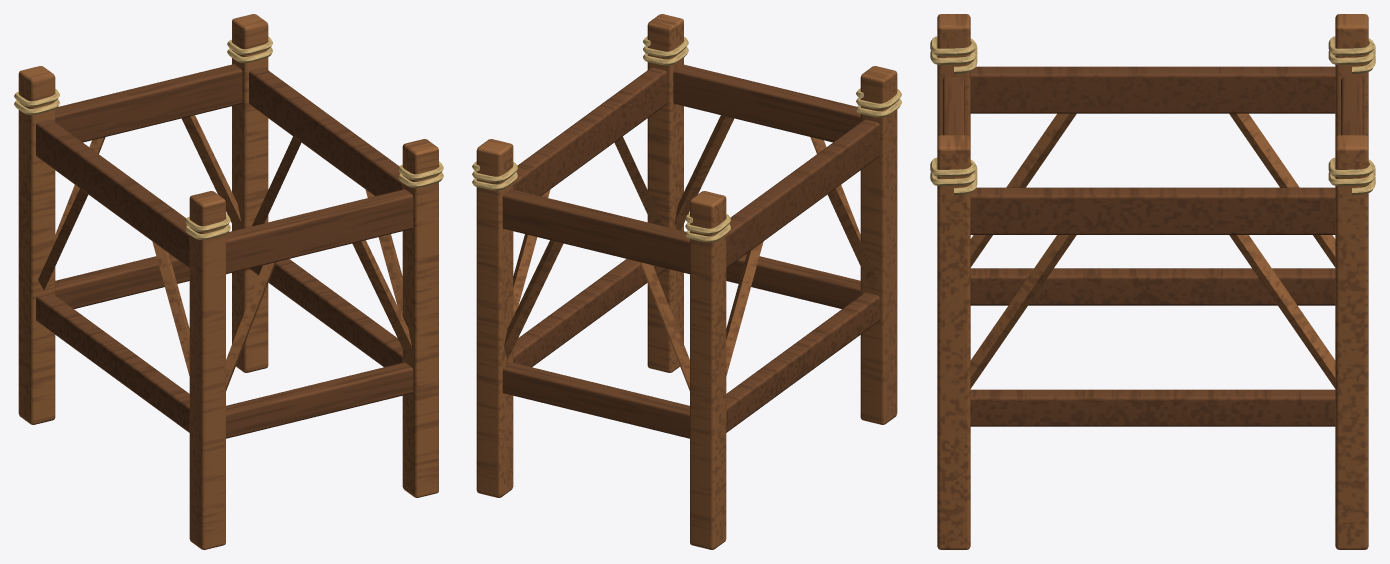
File: CC_T08_PierSupport.fbx
3 views of the same model, side by side, from view 1: azimuth 30°, elevation 25°; view 2: azimuth 150°, elevation 25°; view 3: azimuth 270°, elevation 25° (orthographic). The views are drawn at different scales.
Visible parts, largest first — view 1: Beams, Posts, Ropes; view 2: Beams, Posts, Ropes; view 3: Beams, Posts, Ropes.
Boxes of the visible parts, bbox=[...] form: Beams: bbox=[36, 64, 413, 438]; Posts: bbox=[18, 14, 438, 549]; Ropes: bbox=[14, 36, 443, 240]; Beams: bbox=[502, 64, 879, 438]; Posts: bbox=[476, 14, 897, 549]; Ropes: bbox=[472, 36, 901, 242]; Beams: bbox=[942, 66, 1363, 426]; Posts: bbox=[937, 14, 1368, 549]; Ropes: bbox=[930, 36, 1375, 194].
Bounding box in the file's own units: 3 × 4 × 4.
